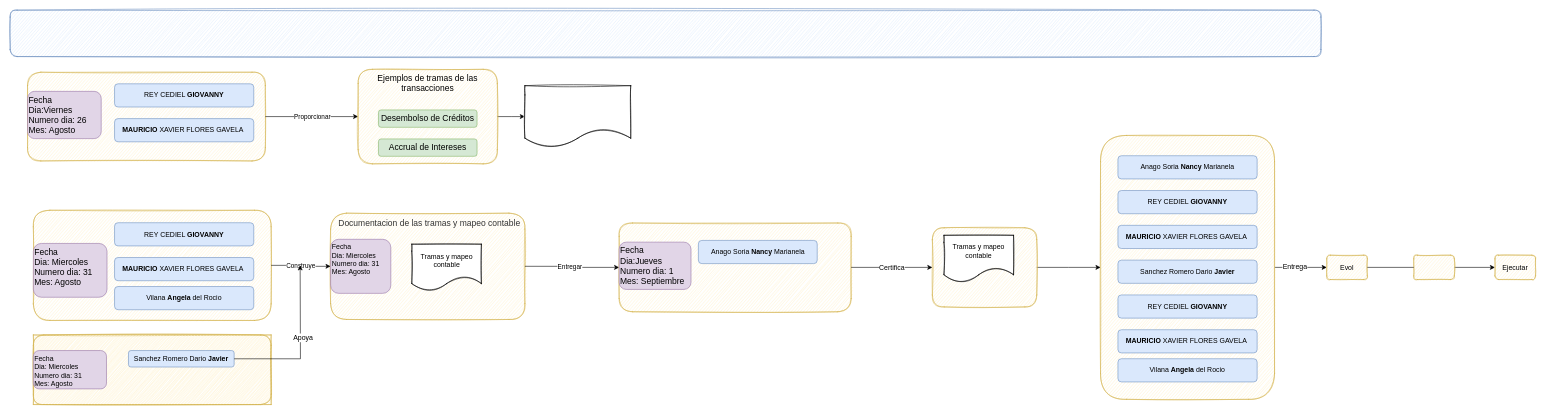
Image size: 1546x415. Some labels were removed from this diagram. Here are the shapes that lost their labels. From the top down, the centre of each, then its label:
the point at 665,33: Preparación
the point at 577,116: -Desembolso de Créditos -Accrual de Intereses
the point at 1433,267: Preparar
